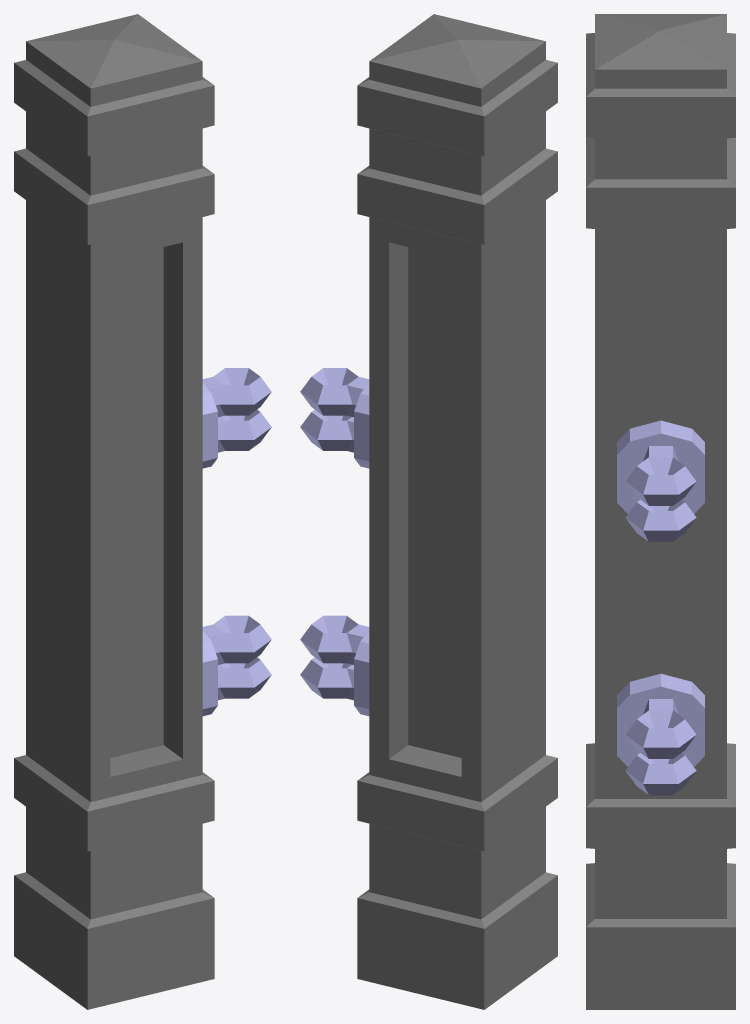
File: SM_Fence_03.fbx
3 views of the same model, side by side, from view 1: azimuth 30°, elevation 25°; view 2: azimuth 150°, elevation 25°; view 3: azimuth 270°, elevation 25° (orthographic). The views are drawn at different scales.
Parts seen in each view (by area): view 1: Object020; view 2: Object020; view 3: Object020.
Part boxes in pixels (x1,y1,x2,y2): Object020: [14, 14, 271, 1009]; Object020: [300, 14, 557, 1009]; Object020: [586, 14, 735, 1009].
Size of the model in its own units: 50.12 by 209 by 30.
